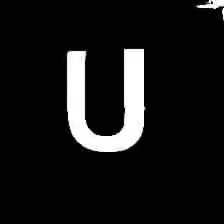LTR_U: (52, 36, 151, 157)
